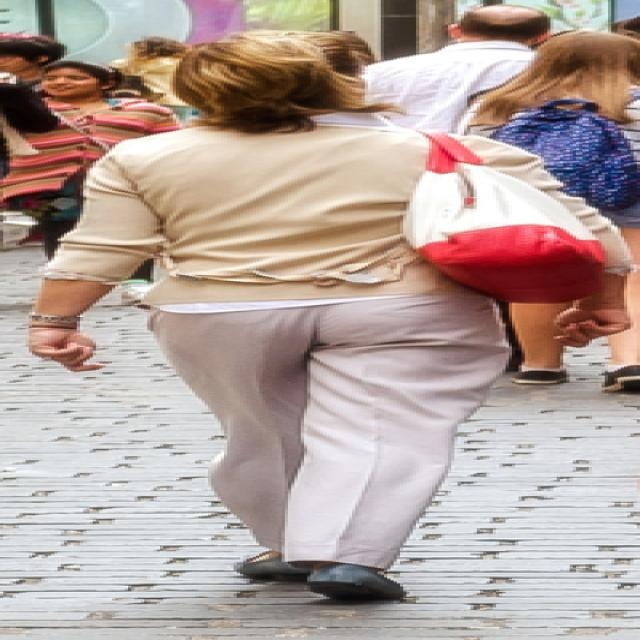standing: (14, 31, 636, 606)
